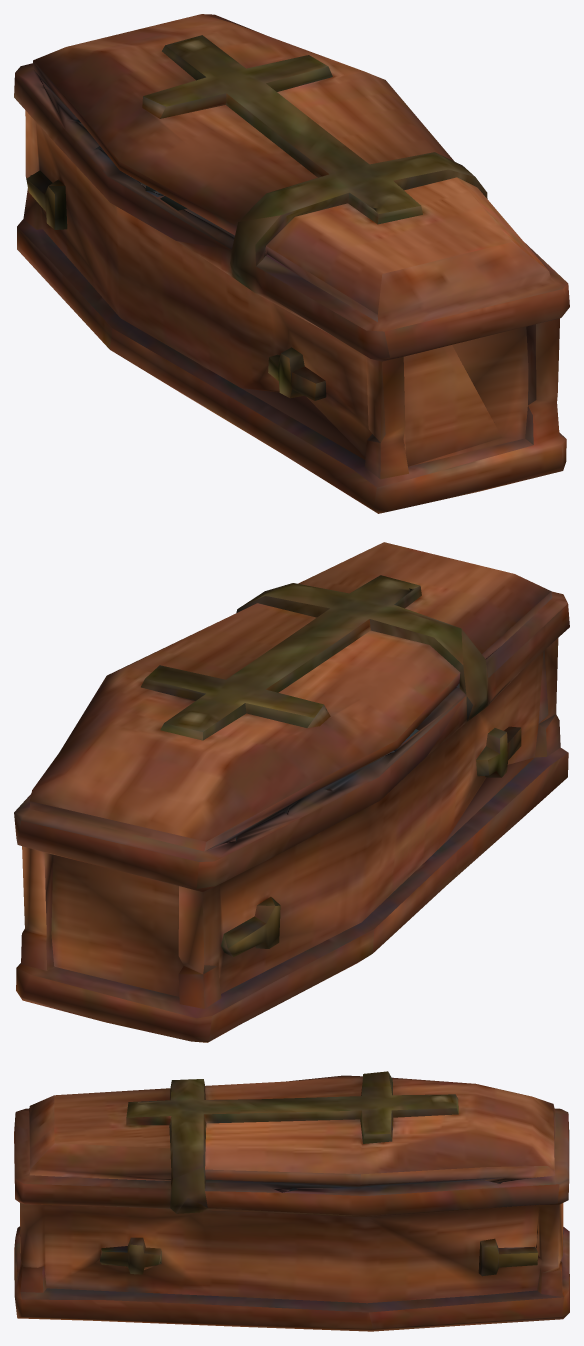
File: lg-coffin.glb
3 views of the same model, one above another, from view 1: azimuth 30°, elevation 25°; view 2: azimuth 150°, elevation 25°; view 3: azimuth 270°, elevation 25° (orthographic). The views are drawn at different scales.
Visible parts, largest first — view 1: geometry_0; view 2: geometry_0; view 3: geometry_0.
Boxes of the visible parts, box(x1,y1,x2,y2) form: geometry_0: box(14, 14, 569, 513); geometry_0: box(14, 542, 569, 1042); geometry_0: box(14, 1071, 569, 1331).
Bounding box in the file's own units: 0.4393 × 0.3734 × 1.
1 material, 1 textured.
